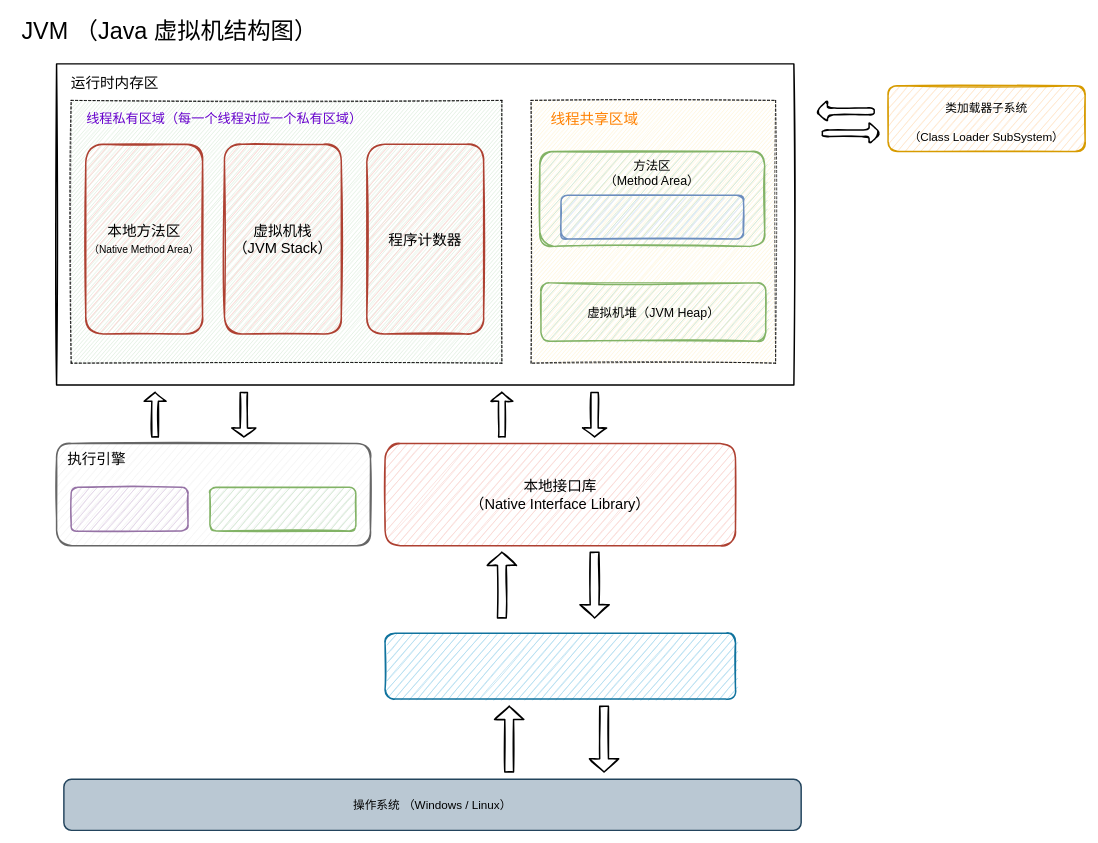
This 1098x843 diagram has some shape labels left out. The shapes that lost their labels are listed below. From the top down, each one's centre as x and y in pixels, then its label:
At (652,216): "运行时常量池".
At (129,508): "即时编译器 （JIT Complier）".
At (282,508): "垃圾回收器 （Garbage Collection）".
At (560,665): "本地方法库 （Native Method Library）".
